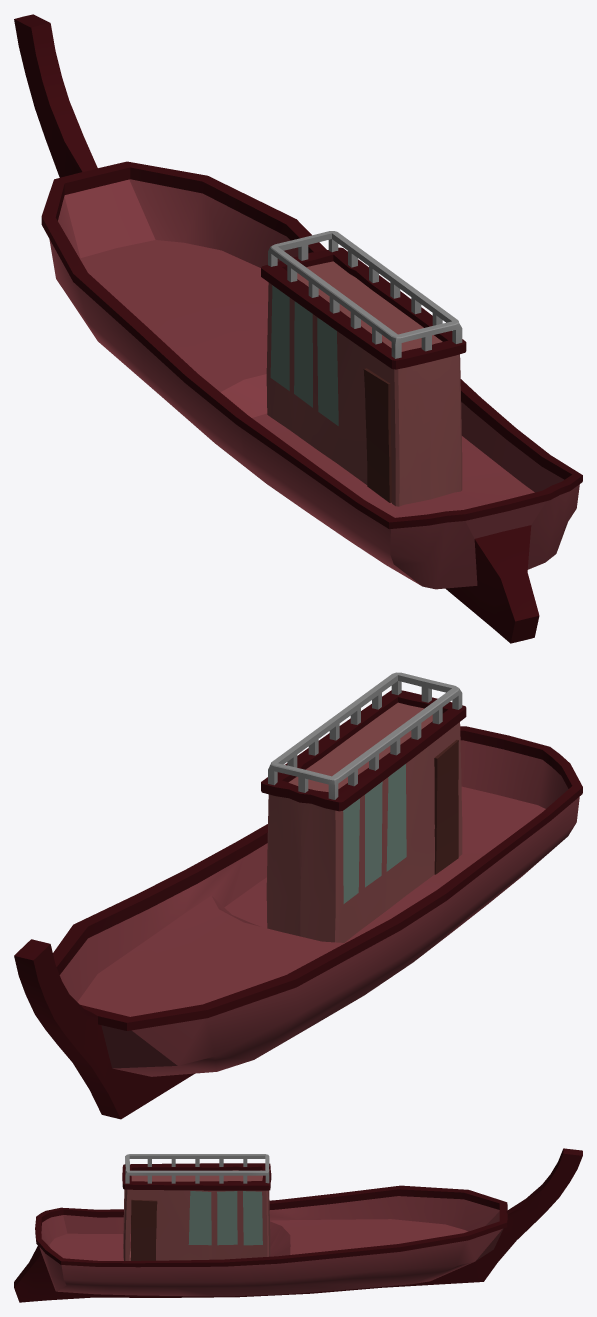
Rendered from Longboi (FBX).fbx.
3 renders of one model, top to bottom at view 1: azimuth 30°, elevation 25°; view 2: azimuth 150°, elevation 25°; view 3: azimuth 270°, elevation 25°, orthographic. The views are drawn at different scales.
Visible parts, largest first — view 1: Longboi Boat; view 2: Longboi Boat; view 3: Longboi Boat.
Part boxes in pixels (<box>): Longboi Boat: <box>14,14,582,643</box>; Longboi Boat: <box>14,672,582,1119</box>; Longboi Boat: <box>14,1148,582,1302</box>.
Size of the model in its own units: 583 by 656 by 2278.
